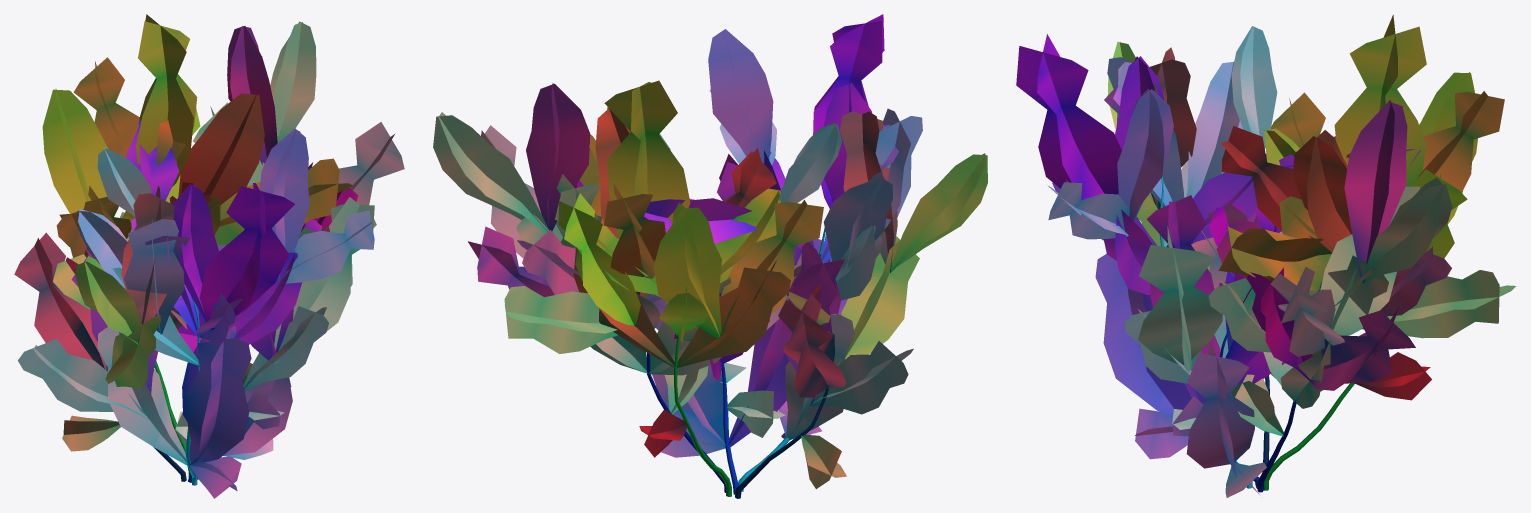
Rendered from European_Spindle_wk1ncbxja_Mid_wk1ncbxja_VarJ_LOD2.fbx.
The picture shows the model from 3 angles, left to right: view 1: azimuth 30°, elevation 25°; view 2: azimuth 150°, elevation 25°; view 3: azimuth 270°, elevation 25°; orthographic projection. The views are drawn at different scales.
Visible parts, largest first — view 1: _3zlf_VarJ_LOD3; view 2: _3zlf_VarJ_LOD3; view 3: _3zlf_VarJ_LOD3.
Part boxes in pixels (x1,y1,x2,y2): _3zlf_VarJ_LOD3: (14,14,404,498); _3zlf_VarJ_LOD3: (433,14,987,498); _3zlf_VarJ_LOD3: (1016,15,1516,497).
Size of the model in its own units: 158 by 160 by 151.
